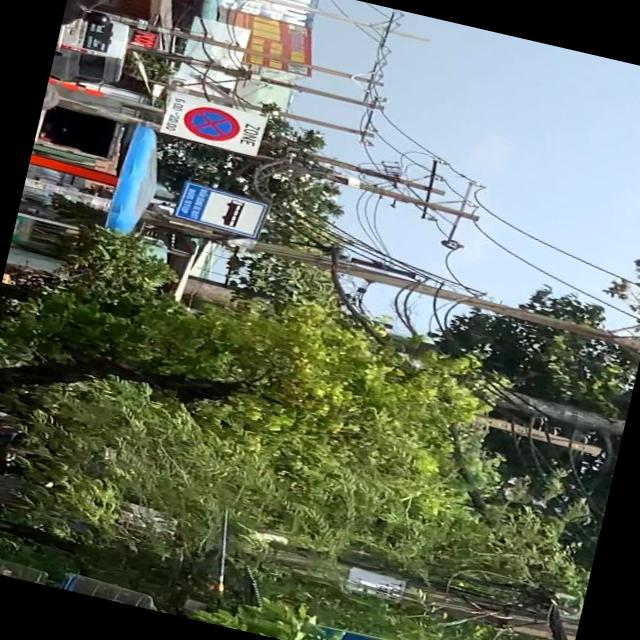P-130: (178, 102, 244, 144)
